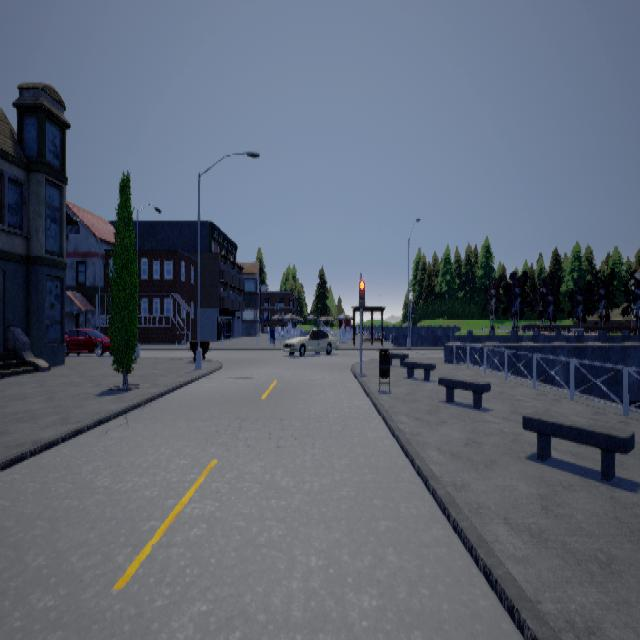red_light: (358, 274, 364, 312)
vehicle: (281, 327, 338, 355), (64, 327, 111, 355)
